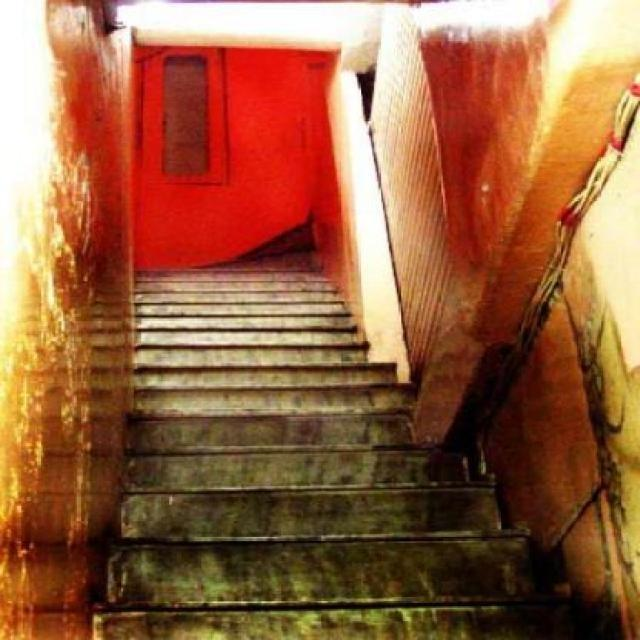stair: (84, 240, 620, 638)
